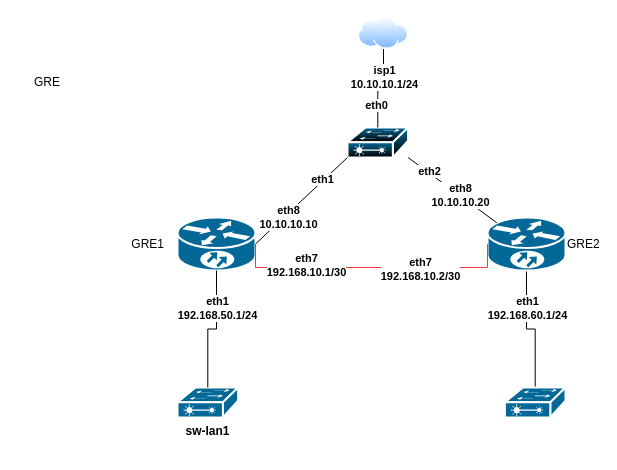
Some shapes in this 617 by 470 pixel diagram are drawn without their labels. Here are the shapes that lost their labels. From the top down, the box of each, then its label:
(346, 126, 409, 158): sw-remote
(503, 386, 566, 418): sw-lan2
